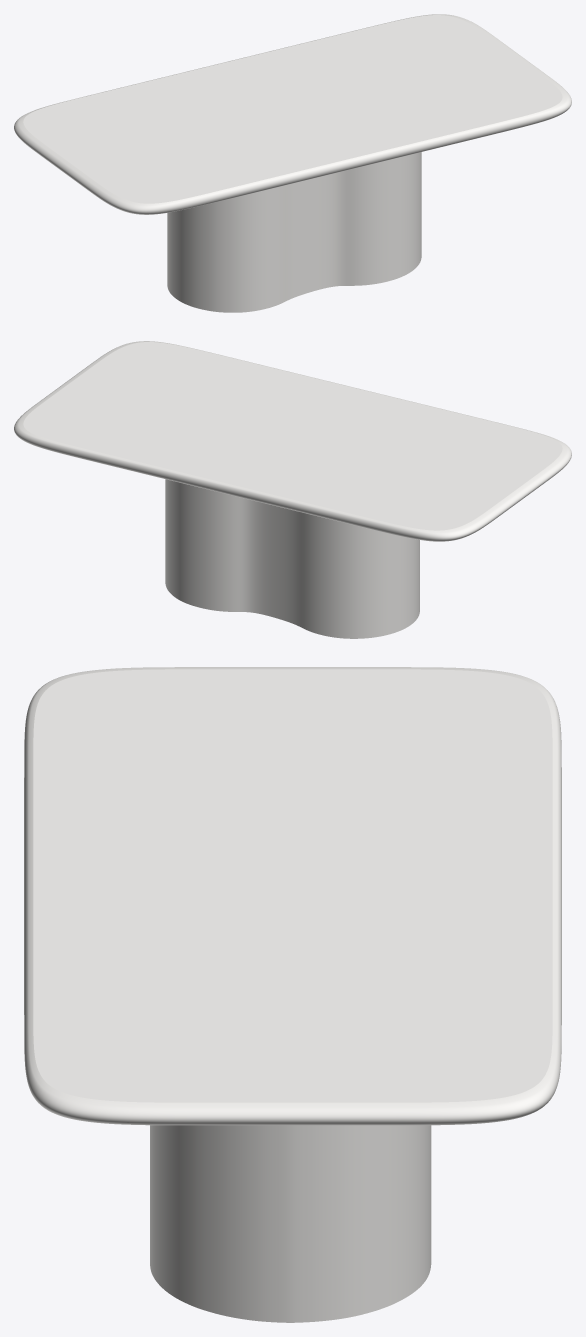
The model's file is purewhite_softrecta_round_riverwave.glb.
3 views of the same model, one above another, from view 1: azimuth 30°, elevation 25°; view 2: azimuth 150°, elevation 25°; view 3: azimuth 270°, elevation 25° (orthographic). The views are drawn at different scales.
Visible parts, largest first — view 1: round_softrecta, riverwave; view 2: round_softrecta, riverwave; view 3: round_softrecta, riverwave.
Boxes of the visible parts, x1=… form: round_softrecta: x1=14, y1=14, x2=571, y2=214; riverwave: x1=167, y1=152, x2=421, y2=312; round_softrecta: x1=14, y1=341, x2=571, y2=541; riverwave: x1=165, y1=479, x2=419, y2=638; round_softrecta: x1=24, y1=667, x2=561, y2=1125; riverwave: x1=150, y1=1125, x2=431, y2=1322.
Size of the model in its own units: 7.5 by 2.5 by 3.8.
Materials: 1 (1 with a texture image).
